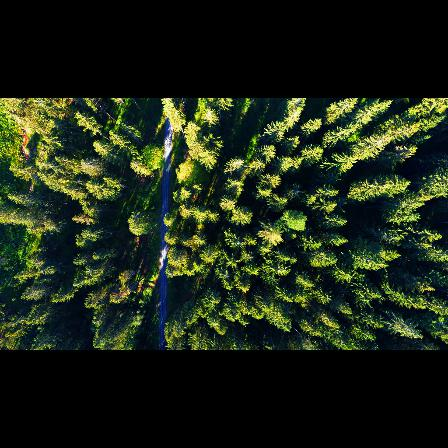Sick: (217, 266, 235, 284), (290, 182, 305, 201), (232, 234, 248, 246)
